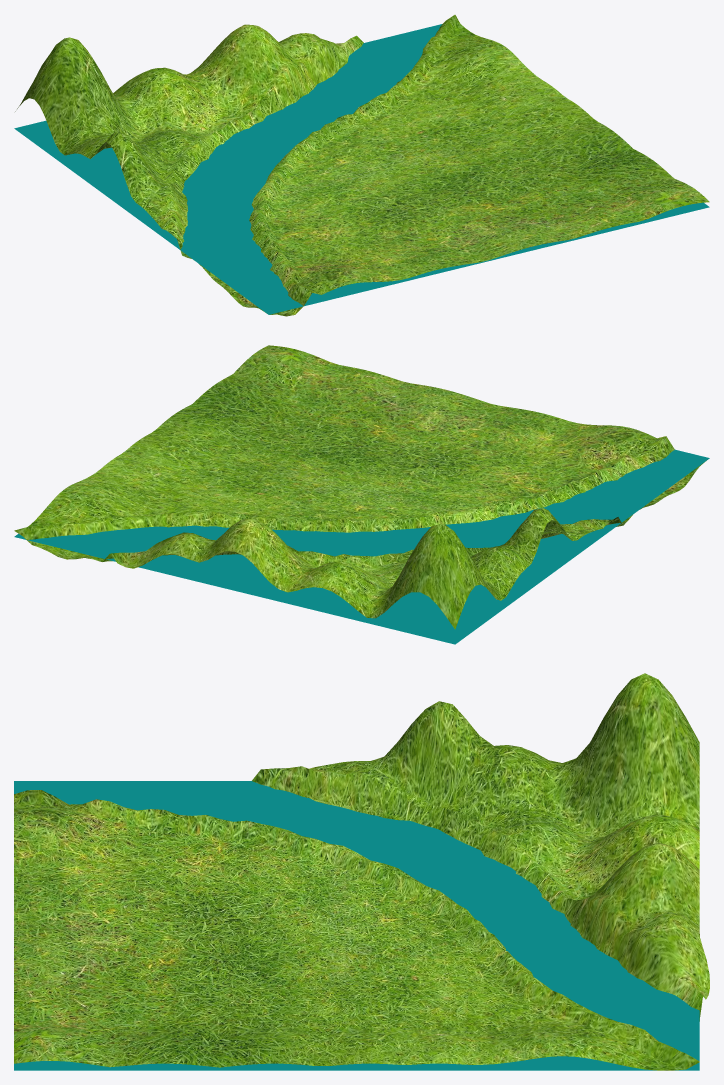
The model's file is PlayGround_Main.fbx.
3 renders of one model, top to bottom at view 1: azimuth 30°, elevation 25°; view 2: azimuth 150°, elevation 25°; view 3: azimuth 270°, elevation 25°, orthographic. The views are drawn at different scales.
Parts seen in each view (by area): view 1: Plane001, Plane002; view 2: Plane001, Plane002; view 3: Plane001, Plane002.
Boxes of the visible parts, x1,y1,x2,y2 form: Plane001: [15, 15, 709, 316]; Plane002: [14, 24, 709, 314]; Plane001: [14, 345, 706, 629]; Plane002: [14, 449, 709, 644]; Plane001: [14, 673, 709, 1070]; Plane002: [14, 781, 699, 1070].
Size of the model in its own units: 500 by 118 by 507.
Materials: 2 (1 with a texture image).
